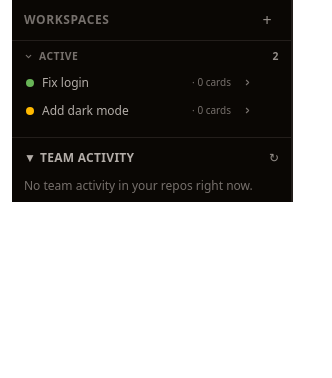
Test case: Sidebar › "New Workspace" button reveals the inline form
Expected: the field with placeholder "workspace title" is not shown
Click the button named "new workspace".
click(267, 20)  # box [255,8,279,32]
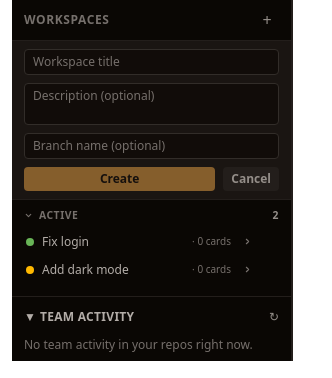
Now the field with placeholder "Workspace title" is shown, box [24,49,279,75]
